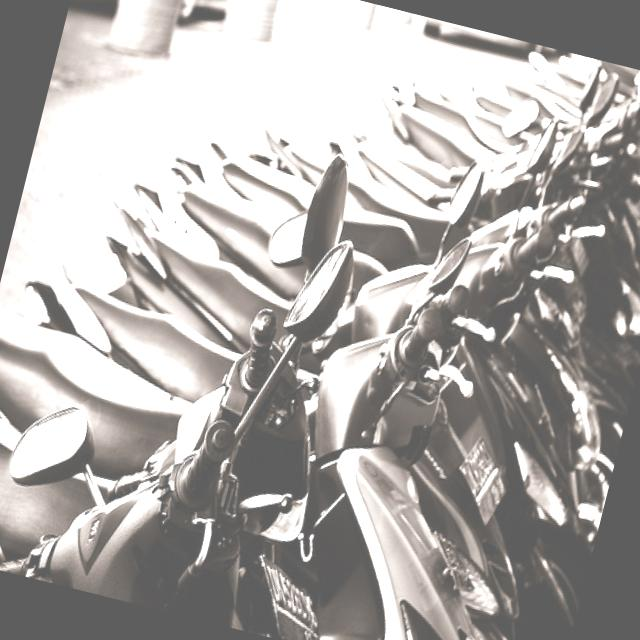Vehicle: (68, 126, 640, 640), (2, 89, 528, 499), (0, 158, 379, 640), (150, 84, 542, 330), (231, 112, 586, 296), (0, 275, 201, 491), (79, 194, 309, 356), (476, 39, 640, 243), (318, 113, 540, 232), (362, 64, 536, 183), (461, 38, 625, 148), (68, 0, 280, 58), (574, 55, 640, 98)
